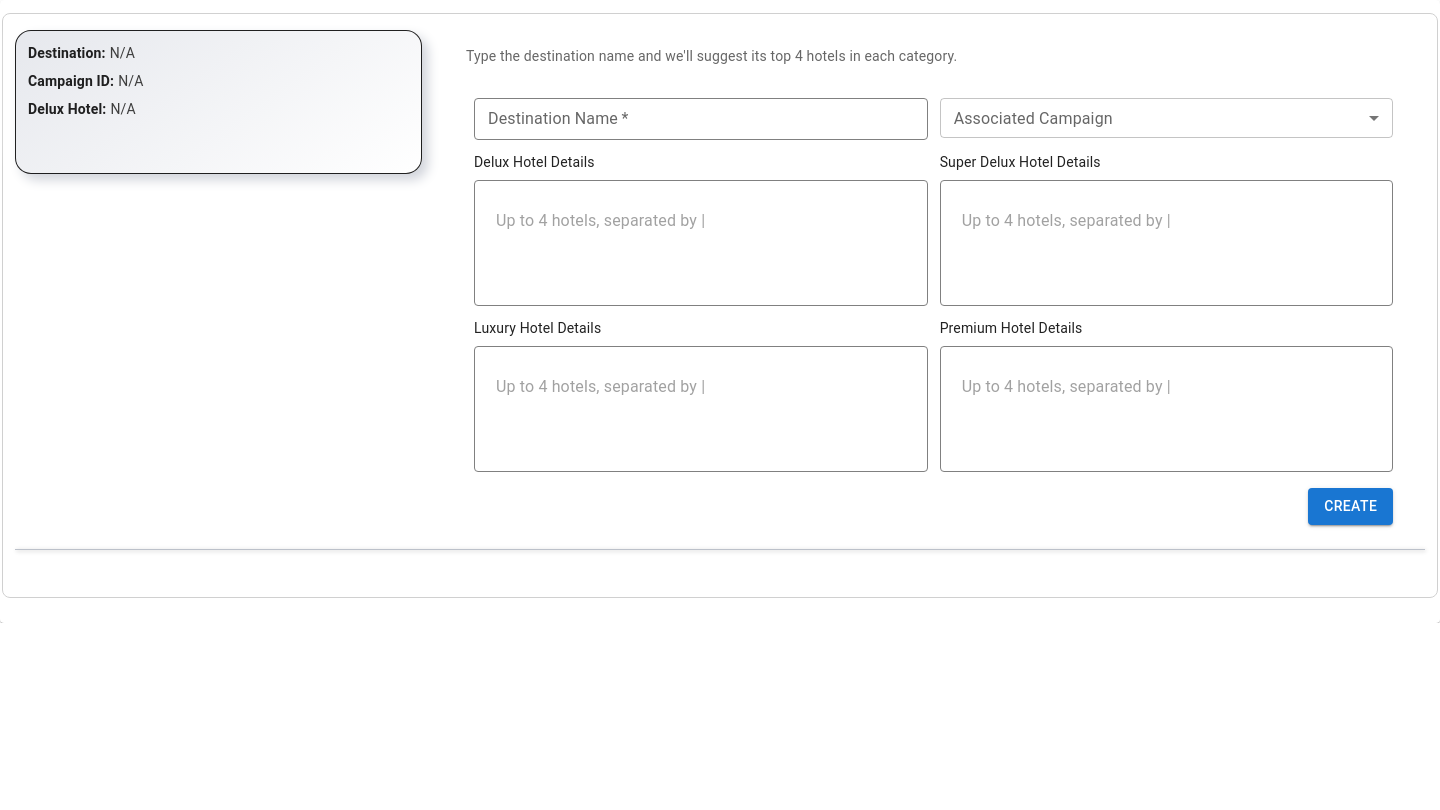
Test: Add destination — hotel suggestions › typing the destination fills the top hotels of each category
Expected: the text "Type the destination name" is shown, [466, 48, 957, 64]
Type "Manali" into the field labelled "Destination Name *" at (701, 119), box [474, 98, 928, 140]
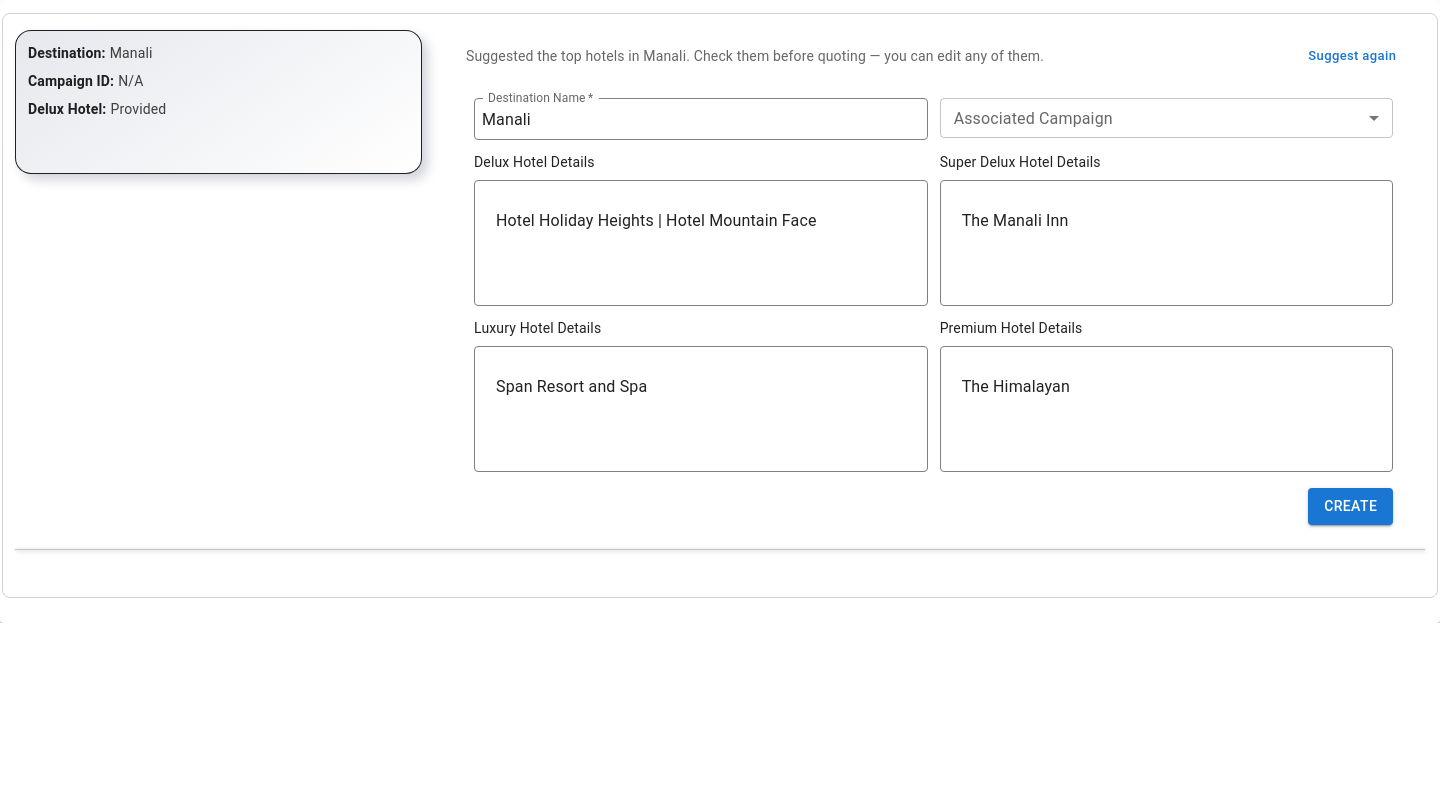
Expected: the text "Suggested the top hotels in Manali. Check them before quoting" is shown, [466, 48, 1044, 64]
